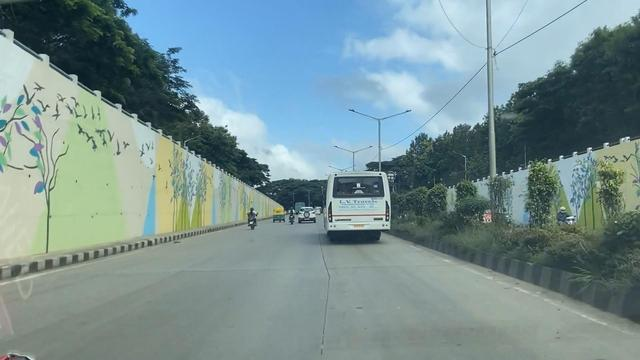HMV: (330, 172, 389, 239)
